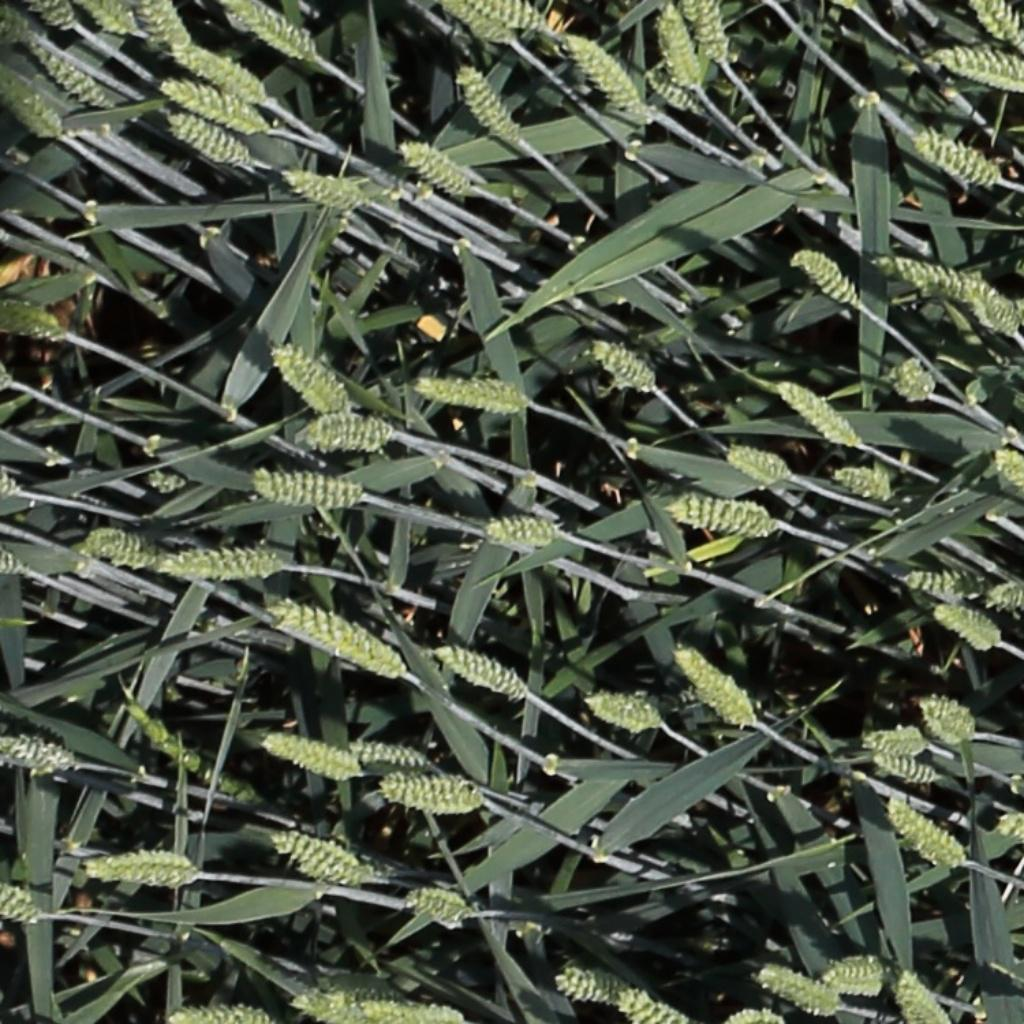0-0: (119, 687, 268, 805), (266, 603, 402, 677), (561, 32, 649, 122), (670, 645, 762, 731), (268, 829, 385, 887), (19, 35, 110, 109), (268, 341, 353, 418), (222, 0, 321, 65), (157, 77, 268, 134), (775, 378, 860, 450), (260, 729, 367, 785), (453, 58, 522, 144), (665, 493, 775, 546), (886, 800, 966, 872), (882, 255, 1002, 303), (913, 128, 1007, 188), (80, 847, 202, 891), (412, 373, 531, 418), (162, 113, 257, 168), (156, 548, 293, 586), (174, 45, 264, 101), (249, 467, 363, 510), (750, 961, 838, 1016), (432, 645, 525, 697), (379, 770, 491, 813), (1, 70, 65, 139), (292, 411, 397, 453), (791, 245, 860, 307), (656, 2, 701, 92), (290, 986, 408, 1020), (397, 139, 471, 193), (929, 50, 1024, 90), (818, 952, 897, 999), (0, 733, 82, 778), (278, 165, 365, 207), (580, 688, 666, 730), (587, 338, 656, 390), (77, 525, 166, 563), (402, 882, 476, 927), (891, 970, 951, 1024), (483, 511, 563, 551), (932, 605, 1003, 650), (965, 283, 1022, 339), (465, 0, 551, 37), (437, 1, 512, 42), (136, 1, 187, 60), (554, 963, 629, 1003), (970, 0, 1024, 54), (347, 1000, 467, 1024), (1, 300, 65, 344), (905, 568, 995, 598), (641, 65, 699, 111), (830, 466, 900, 504), (690, 0, 729, 68), (348, 739, 439, 768), (917, 700, 976, 744), (616, 990, 691, 1024), (0, 0, 52, 49), (866, 752, 940, 785), (161, 1003, 275, 1024), (724, 446, 790, 480), (886, 357, 935, 400), (0, 881, 44, 923), (84, 0, 135, 35), (989, 449, 1024, 497), (109, 547, 165, 571), (987, 576, 1023, 613), (143, 468, 191, 494), (31, 0, 75, 28), (0, 543, 30, 581), (721, 1007, 787, 1024), (861, 734, 929, 750), (993, 810, 1024, 843), (1005, 763, 1024, 801), (0, 469, 20, 500)
